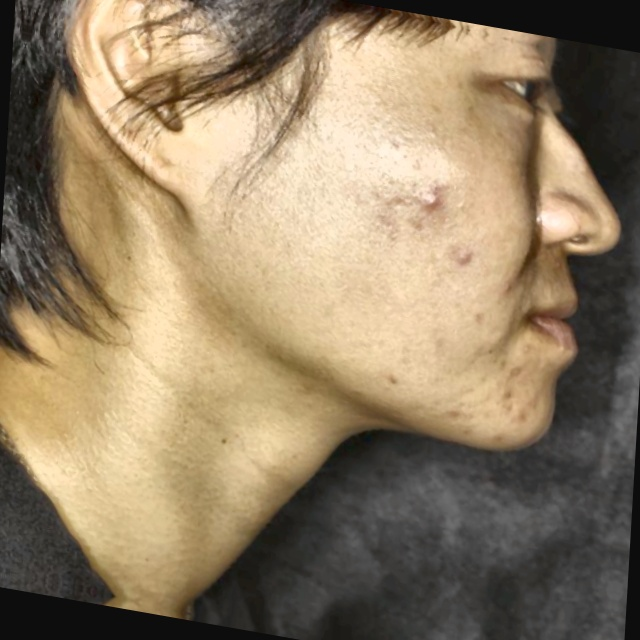comedone: (495, 384, 531, 434), (402, 186, 449, 221), (447, 395, 478, 443), (449, 244, 486, 278), (496, 271, 520, 298)
